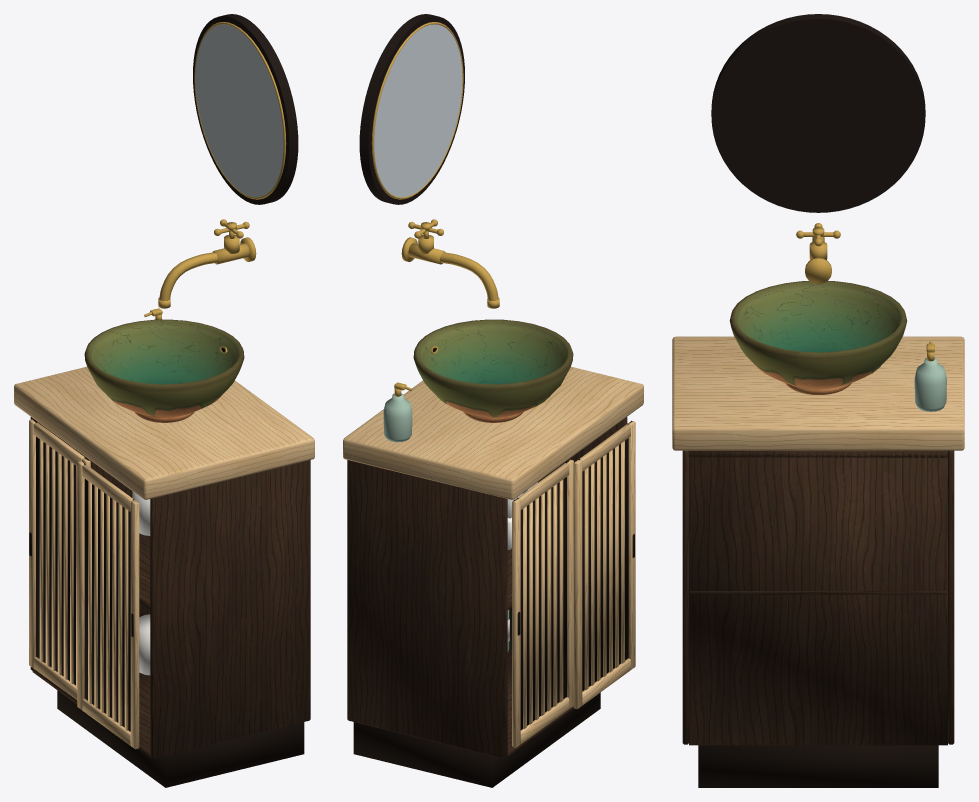
Rendered from washstand.glb.
3 renders of one model, left to right at view 1: azimuth 30°, elevation 25°; view 2: azimuth 150°, elevation 25°; view 3: azimuth 270°, elevation 25°, orthographic. The views are drawn at different scales.
Visible parts, largest first — view 1: WashCabSideR, WashTop, WashBowl, WashMirror, WashPlinth, WashDoorBack1, WashDoorBack0, WashMirrorFrame, WashStile11, WashStile1-1, WashStile0-1, WashCabFloor (+22 smaller); view 2: WashCabSideL, WashTop, WashBowl, WashMirror, WashPlinth, WashDoorBack0, WashDoorBack1, WashMirrorFrame, WashStile1-1, WashStile0-1, WashStile11, WashStile01 (+23 smaller); view 3: WashCabBack, WashMirrorFrame, WashTop, WashBowl, WashPlinth, WashCabSideL, WashCabSideR, WashSoapGlass, WashCabRoof, WashCabShelf, WashTapRose.
Part boxes in pixels (x1=…): WashCabSideR: x1=150, y1=460, x2=310, y2=758; WashTop: x1=14, y1=366, x2=314, y2=499; WashBowl: x1=84, y1=319, x2=244, y2=422; WashMirror: x1=195, y1=24, x2=283, y2=197; WashPlinth: x1=57, y1=690, x2=304, y2=787; WashDoorBack1: x1=82, y1=461, x2=134, y2=731; WashDoorBack0: x1=32, y1=419, x2=89, y2=685; WashMirrorFrame: x1=193, y1=14, x2=298, y2=204; WashStile11: x1=130, y1=500, x2=139, y2=749; WashStile1-1: x1=77, y1=461, x2=84, y2=709; WashStile0-1: x1=29, y1=419, x2=35, y2=668; WashCabFloor: x1=32, y1=668, x2=150, y2=757; WashCabSideL: x1=347, y1=460, x2=507, y2=758; WashTop: x1=343, y1=366, x2=643, y2=499; WashBowl: x1=413, y1=319, x2=573, y2=422; WashMirror: x1=374, y1=24, x2=462, y2=197; WashPlinth: x1=353, y1=692, x2=600, y2=787; WashDoorBack0: x1=513, y1=460, x2=569, y2=729; WashDoorBack1: x1=579, y1=421, x2=632, y2=691; WashMirrorFrame: x1=359, y1=14, x2=464, y2=204; WashStile1-1: x1=573, y1=459, x2=582, y2=708; WashStile0-1: x1=512, y1=498, x2=520, y2=747; WashStile11: x1=628, y1=421, x2=635, y2=669; WashStile01: x1=567, y1=459, x2=573, y2=708; WashCabBack: x1=689, y1=450, x2=947, y2=745; WashMirrorFrame: x1=711, y1=14, x2=925, y2=212; WashTop: x1=672, y1=336, x2=964, y2=450; WashBowl: x1=729, y1=281, x2=907, y2=394; WashPlinth: x1=698, y1=745, x2=938, y2=787; WashCabSideL: x1=948, y1=450, x2=954, y2=744; WashCabSideR: x1=682, y1=450, x2=688, y2=744; WashSoapGlass: x1=914, y1=358, x2=946, y2=411; WashCabRoof: x1=689, y1=452, x2=947, y2=457; WashCabShelf: x1=690, y1=591, x2=946, y2=594; WashTapRose: x1=805, y1=257, x2=831, y2=284.
Bounding box in the file's own units: 0.423 × 1.62 × 0.56.
Materials: 15 (3 with a texture image).
